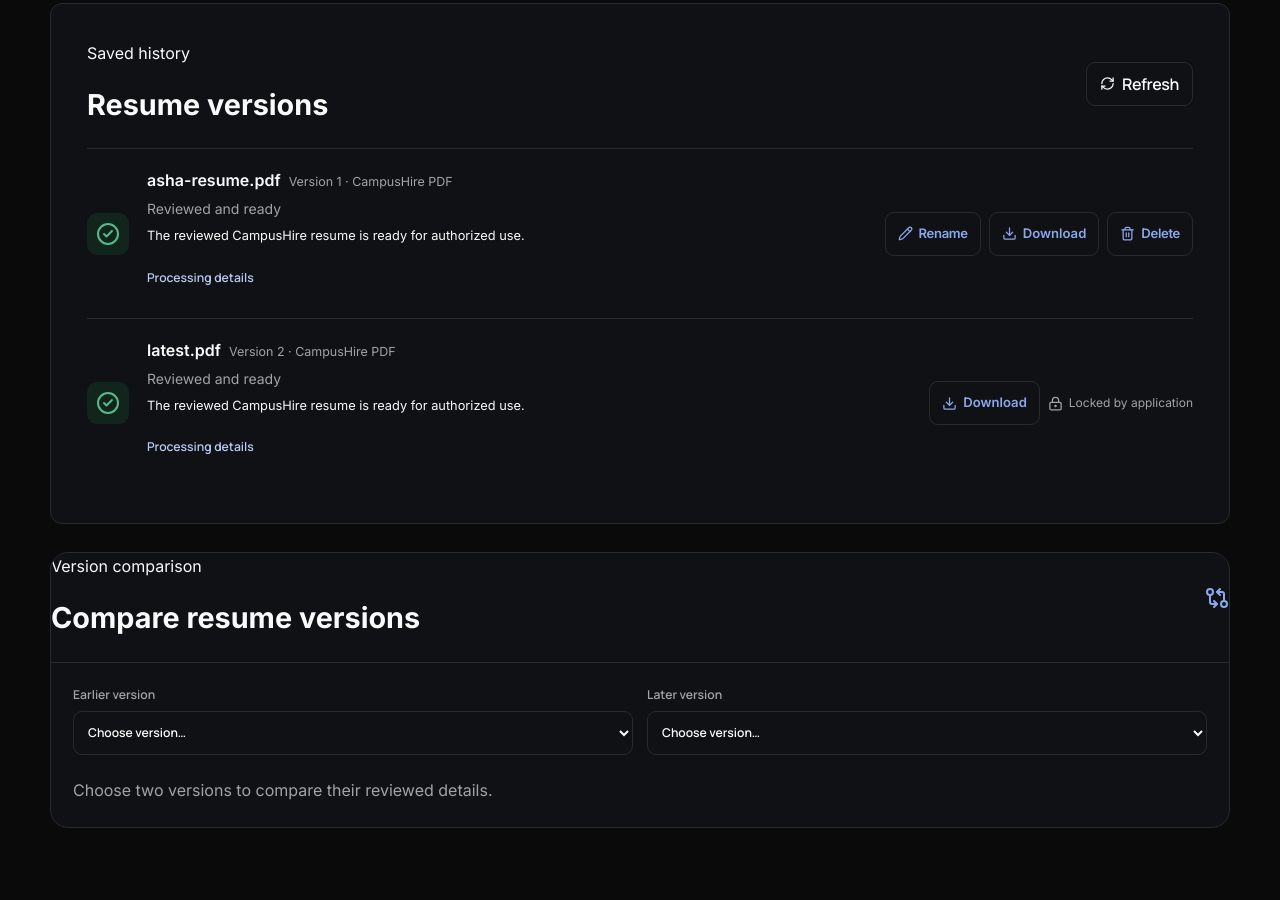
Test: ResumeWorkspace › compares evidence and explains application-locked deletion
(page scrolled)
Expected: the text "Locked by application" is shown, [1048,393,1193,413]
Select "Version 1 · asha-resume.pdf" in the dropdown labelled "Earlier version" at coordinates (353, 733), box [73,711,633,755]
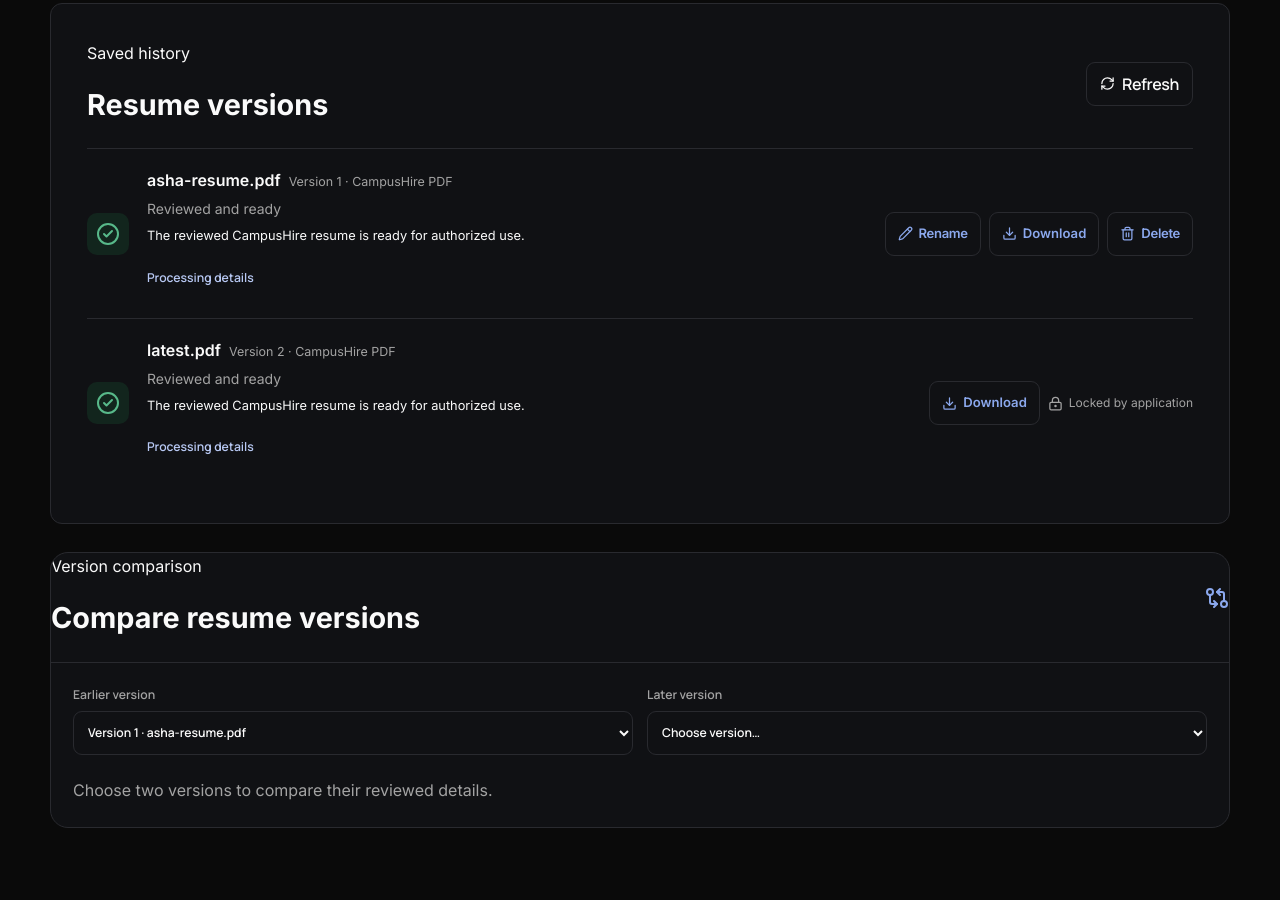
Select "Version 2 · latest.pdf" in the dropdown labelled "Later version" at coordinates (927, 733), box [647,711,1207,755]
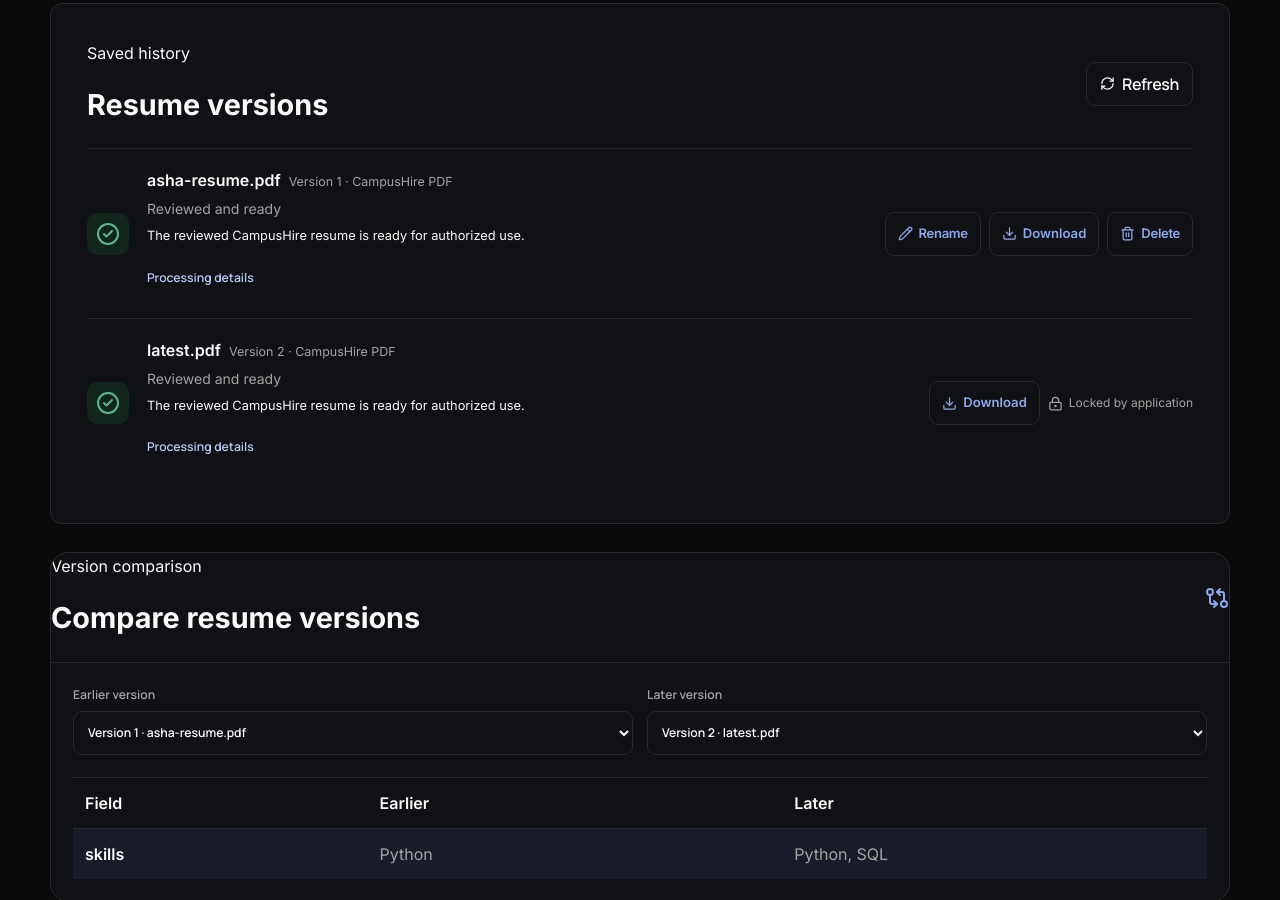
Expected: the number of buttons "Delete" is 1, [1107,212,1193,256]
Expected: the table named "Resume version comparison" shows "Python, SQL", [794,844,888,864]
